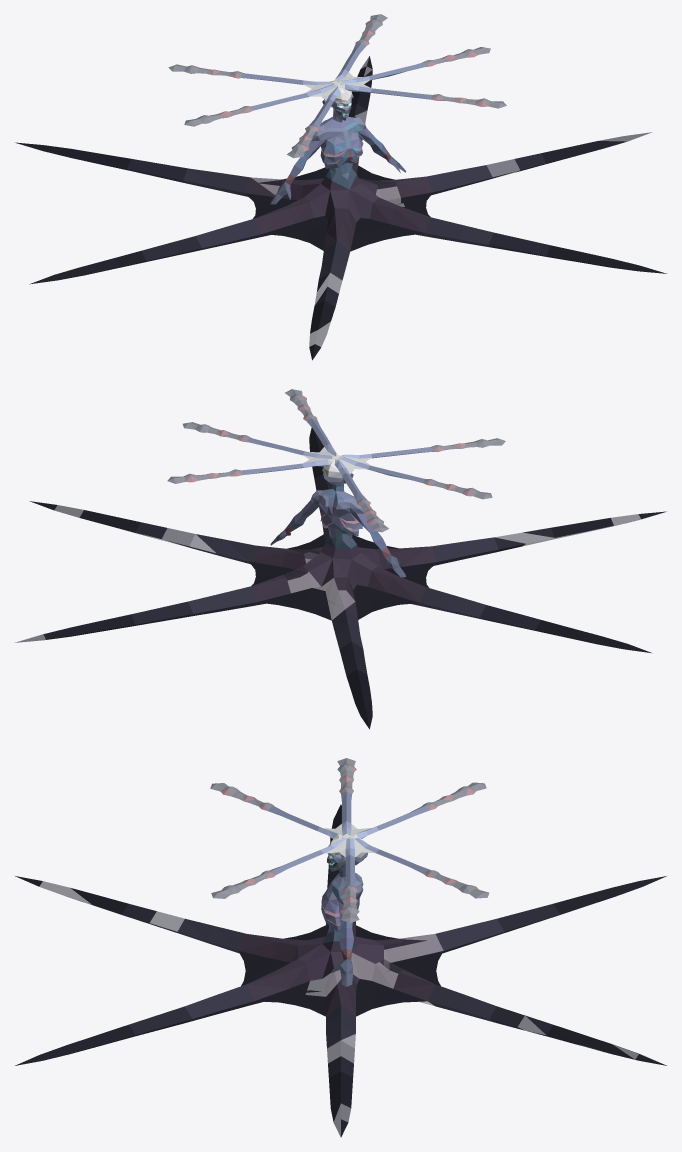
The model's file is the-whisperer.gltf.
3 views of the same model, one above another, from view 1: azimuth 30°, elevation 25°; view 2: azimuth 150°, elevation 25°; view 3: azimuth 270°, elevation 25° (orthographic). The views are drawn at different scales.
Size of the model in its own units: 846 by 173 by 700.
2 materials, 2 textured.
